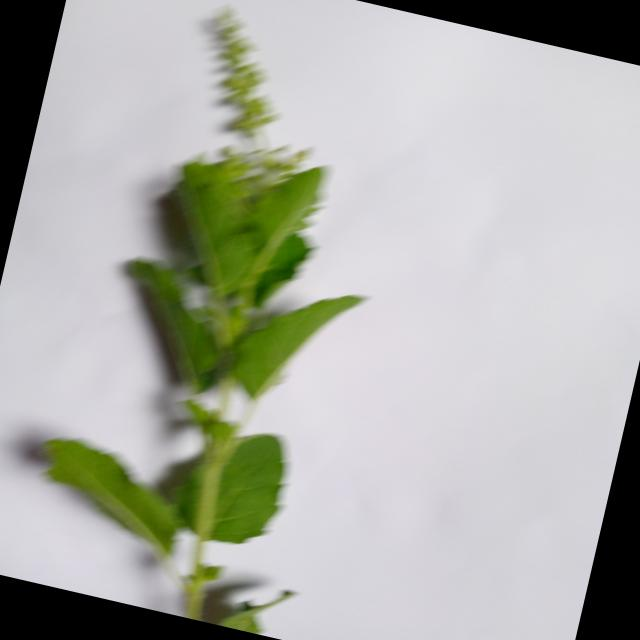tulsi: (17, 0, 428, 640)
